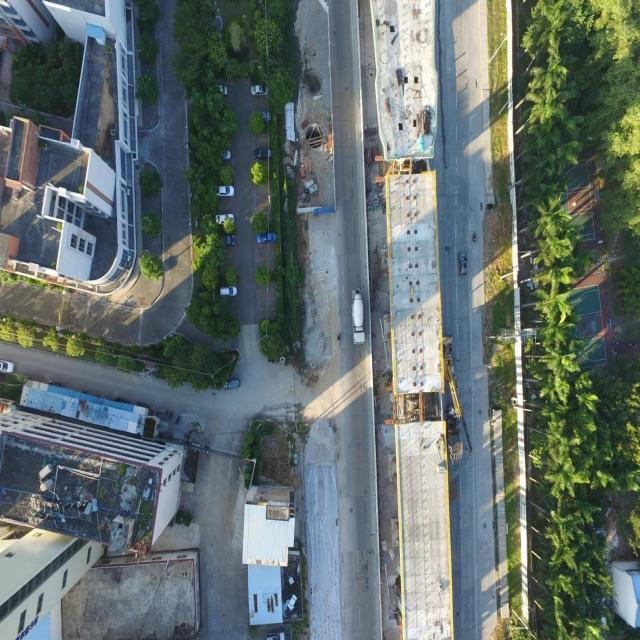p3rson: (594, 189, 602, 198), (630, 342, 636, 351)
